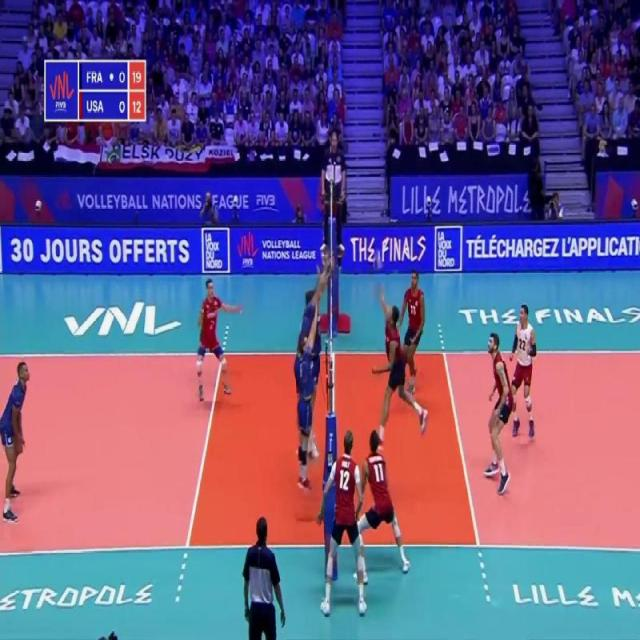volleyball: (373, 251, 382, 268)
